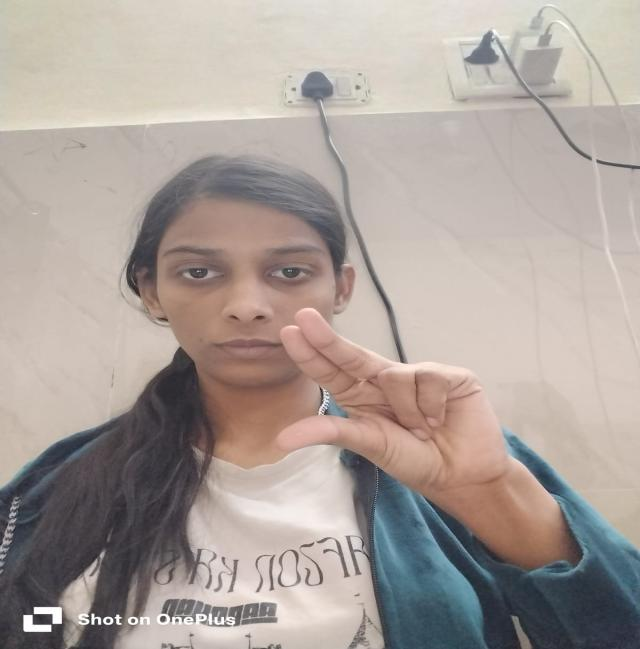No: (267, 299, 528, 506)
